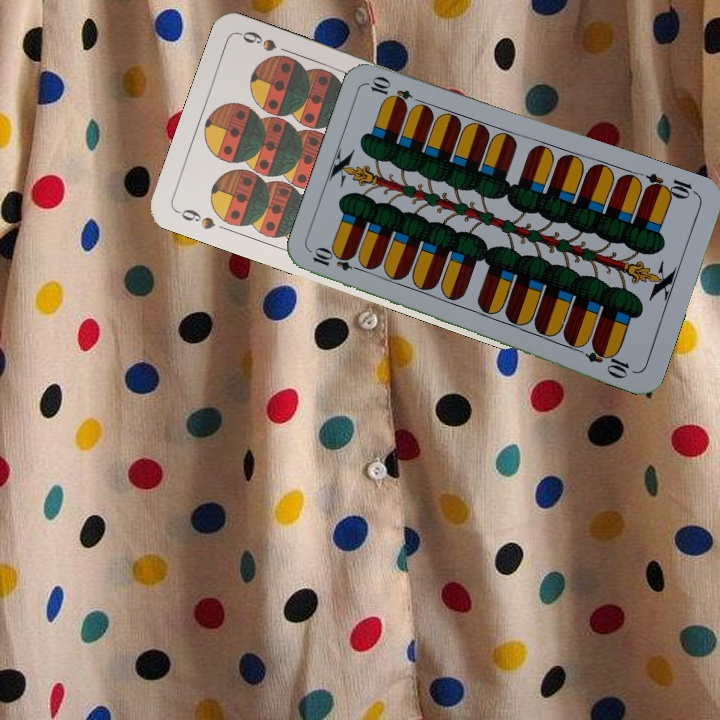E10: (641, 169, 700, 202), (308, 246, 367, 275)
S9: (172, 205, 218, 232)
